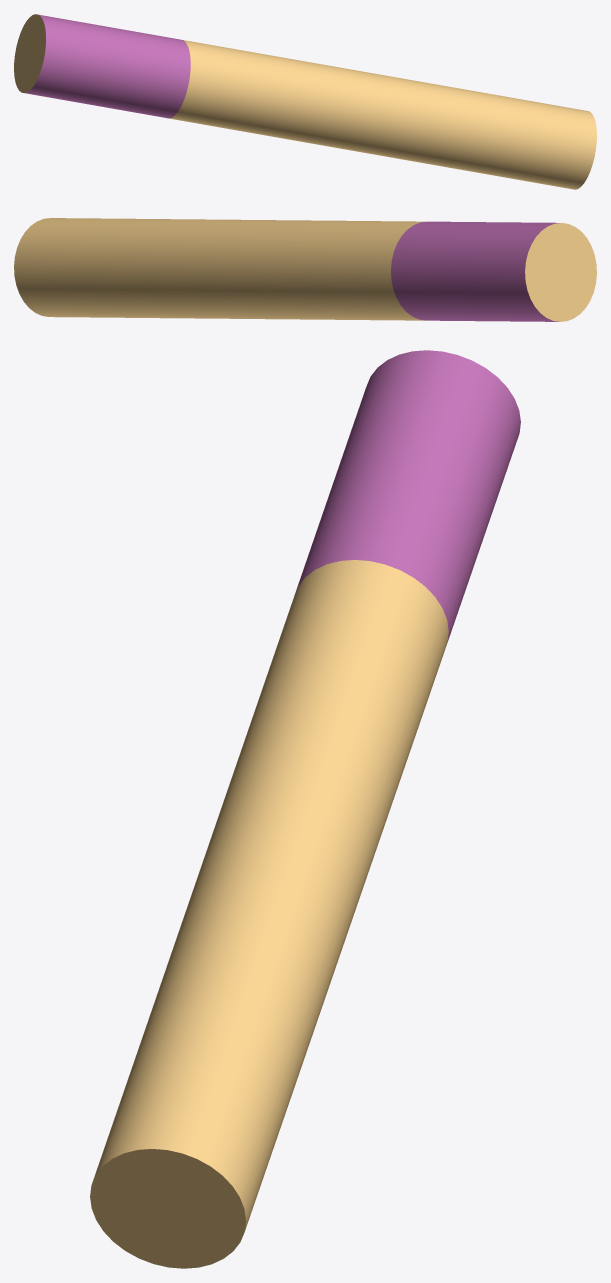
File: Pen_2.glb
3 views of the same model, one above another, from view 1: azimuth 30°, elevation 25°; view 2: azimuth 150°, elevation 25°; view 3: azimuth 270°, elevation 25° (orthographic). The views are drawn at different scales.
Visible parts, largest first — view 1: Pen_2; view 2: Pen_2; view 3: Pen_2.
Part boxes in pixels (x1,y1,x2,y2): Pen_2: [14, 14, 596, 189]; Pen_2: [14, 218, 596, 321]; Pen_2: [90, 350, 520, 1268].
Bounding box in the file's own units: 2.44 × 1.07 × 0.8963.
